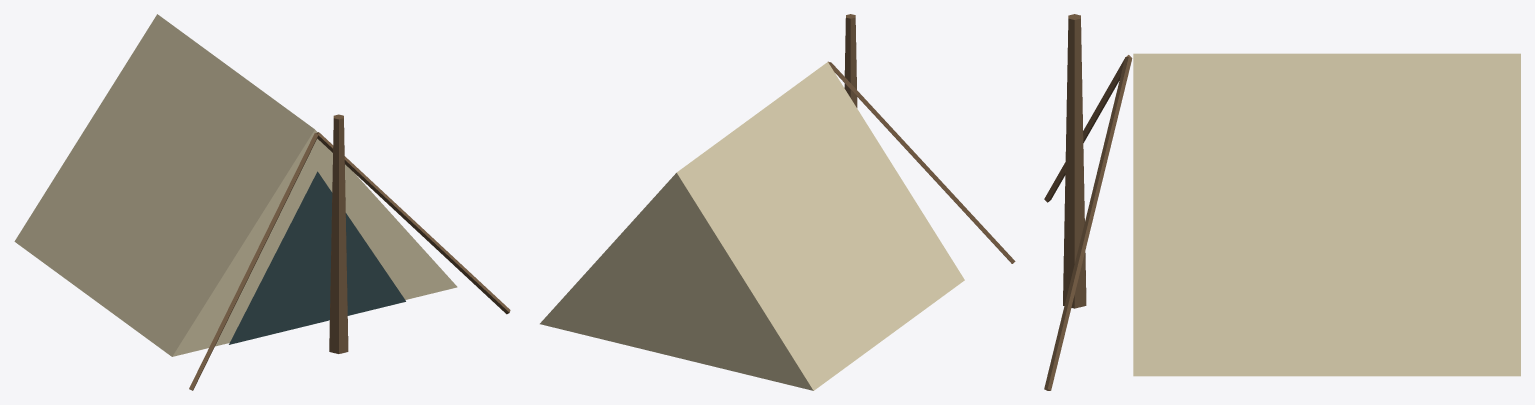
The model's file is camp.glb.
3 views of the same model, side by side, from view 1: azimuth 30°, elevation 25°; view 2: azimuth 150°, elevation 25°; view 3: azimuth 270°, elevation 25° (orthographic). The views are drawn at different scales.
Parts seen in each view (by area): view 1: Pitched roof, Tent opening, Tapered form, Tapered form.002, Tapered form.001; view 2: Pitched roof, Tapered form.001, Tapered form; view 3: Pitched roof, Tapered form, Tapered form.002, Tapered form.001.
Boxes of the visible parts, bbox=[...] form: Pitched roof: bbox=[14, 14, 457, 356]; Tent opening: bbox=[229, 171, 405, 344]; Tapered form: bbox=[329, 114, 348, 353]; Tapered form.002: bbox=[316, 132, 510, 314]; Tapered form.001: bbox=[189, 133, 318, 390]; Pitched roof: bbox=[540, 62, 964, 390]; Tapered form.001: bbox=[829, 62, 1015, 263]; Tapered form: bbox=[844, 14, 857, 107]; Pitched roof: bbox=[1133, 53, 1520, 376]; Tapered form: bbox=[1063, 14, 1086, 308]; Tapered form.002: bbox=[1044, 57, 1131, 390]; Tapered form.001: bbox=[1044, 55, 1131, 202].
Bounding box in the file's own units: 0.5061 × 0.35 × 0.5289.
